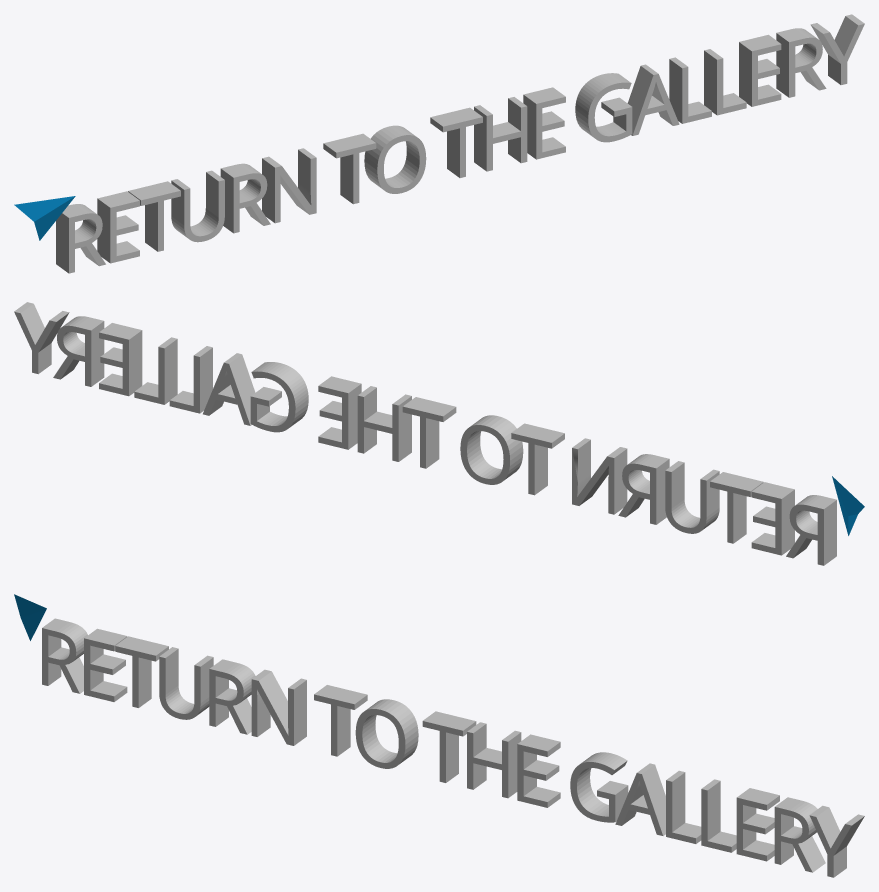
Rendered from ReturnTOTheGallery.fbx.
3 renders of one model, top to bottom at view 1: azimuth 30°, elevation 25°; view 2: azimuth 150°, elevation 25°; view 3: azimuth 330°, elevation 25°, orthographic.
Parts seen in each view (by area): view 1: 3D Text - R (×3), 3D Text - E (×3), 3D Text - T (×3), 3D Text - L (×2), 3D Text - G, 3D Text - O, 3D Text - N, 3D Text - H, 3D Text - U, 3D Text - A, 3D Text - Y, Arrow; view 2: 3D Text - R (×3), 3D Text - E (×3), 3D Text - T (×3), 3D Text - L (×2), 3D Text - G, 3D Text - O, 3D Text - N, 3D Text - H, 3D Text - U, 3D Text - A, 3D Text - Y, Arrow; view 3: 3D Text - R (×3), 3D Text - E (×3), 3D Text - T (×3), 3D Text - L (×2), 3D Text - N, 3D Text - O, 3D Text - G, 3D Text - H, 3D Text - U, 3D Text - A, 3D Text - Y, Arrow.
Part boxes in pixels (x1,y1,x2,y2): 3D Text - R (×3): (56, 28, 826, 273); 3D Text - E (×3): (97, 34, 781, 263); 3D Text - T (×3): (128, 107, 482, 251); 3D Text - L (×2): (669, 49, 746, 123); 3D Text - G: (575, 73, 632, 142); 3D Text - O: (364, 125, 426, 193); 3D Text - N: (262, 148, 316, 223); 3D Text - H: (474, 97, 527, 171); 3D Text - U: (171, 170, 224, 242); 3D Text - A: (627, 64, 679, 135); 3D Text - Y: (810, 14, 864, 84); Arrow: (14, 196, 75, 240); 3D Text - R (×3): (53, 316, 836, 565); 3D Text - E (×3): (99, 323, 794, 555); 3D Text - T (×3): (402, 397, 763, 543); 3D Text - L (×2): (134, 337, 212, 413); 3D Text - G: (250, 362, 308, 432); 3D Text - O: (460, 415, 523, 484); 3D Text - N: (572, 438, 627, 514); 3D Text - H: (357, 386, 411, 461); 3D Text - U: (665, 461, 719, 533); 3D Text - A: (203, 353, 255, 425); 3D Text - Y: (14, 302, 69, 374); Arrow: (832, 476, 864, 535); 3D Text - R (×3): (42, 618, 825, 872); 3D Text - E (×3): (84, 628, 779, 861); 3D Text - T (×3): (115, 636, 476, 782); 3D Text - L (×2): (666, 770, 736, 852); 3D Text - N: (251, 669, 306, 745); 3D Text - O: (355, 699, 418, 768); 3D Text - G: (570, 752, 628, 822); 3D Text - H: (467, 722, 521, 798); 3D Text - U: (159, 647, 213, 719); 3D Text - A: (615, 763, 665, 835); 3D Text - Y: (809, 805, 864, 877); Arrow: (14, 594, 46, 640).
Bounding box in the file's own units: 562 × 17.08 × 49.88.
